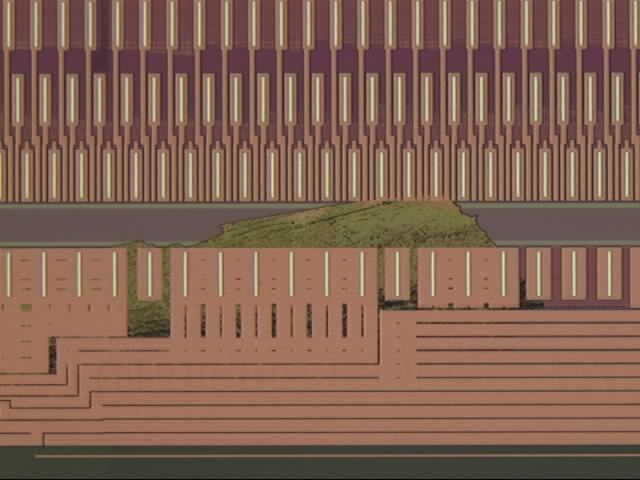BLOCK ETCH: (116, 201, 500, 248), (128, 247, 174, 338)
